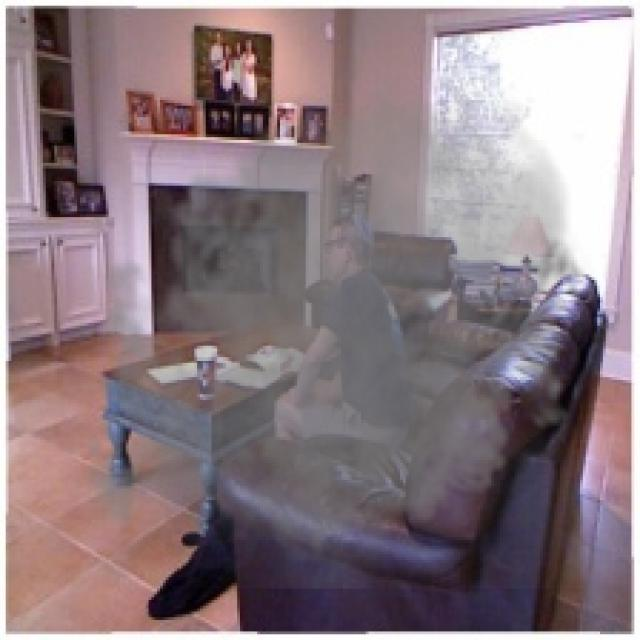smoke: (69, 54, 594, 589)
